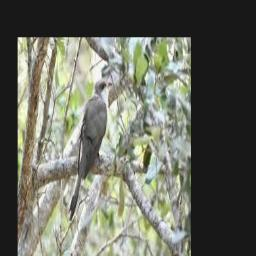Cuckoo: (69, 79, 112, 221)
